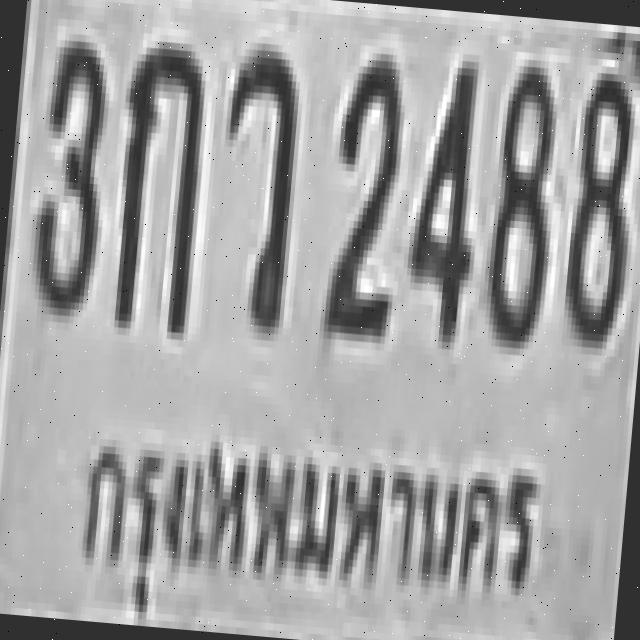10GorGai: (105, 32, 208, 333)
2: (320, 43, 406, 336)
3: (25, 32, 110, 310)
4: (397, 46, 483, 340)
46WorWaen: (208, 41, 302, 327)
8: (478, 58, 560, 342), (557, 65, 638, 342)
Bangkok: (60, 396, 567, 640)
